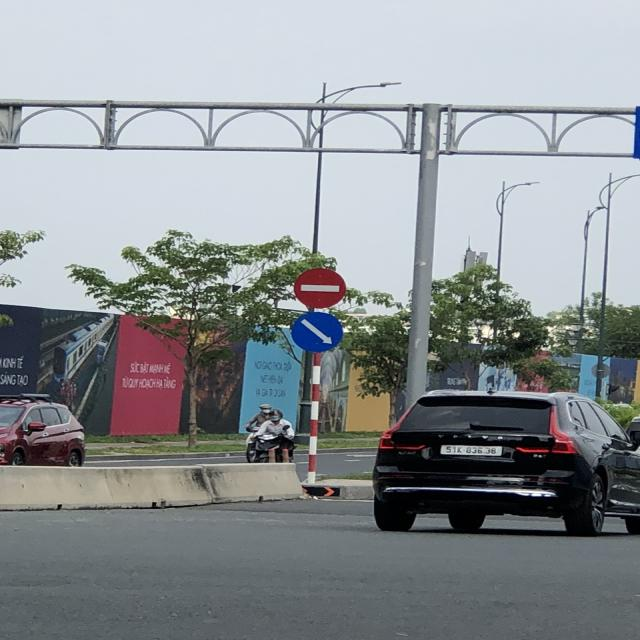Bien bao cam di nguoc chieu: (289, 260, 349, 312)
